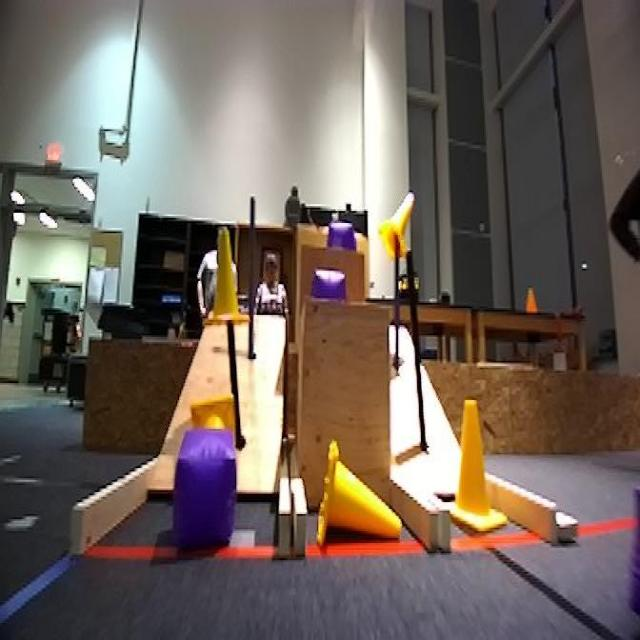frc_cone: (317, 441, 408, 539), (450, 395, 508, 541), (204, 232, 249, 330), (379, 187, 417, 262), (186, 405, 243, 444)
frc_cube: (170, 437, 238, 550), (622, 468, 640, 640), (323, 218, 355, 265), (313, 266, 347, 308)
